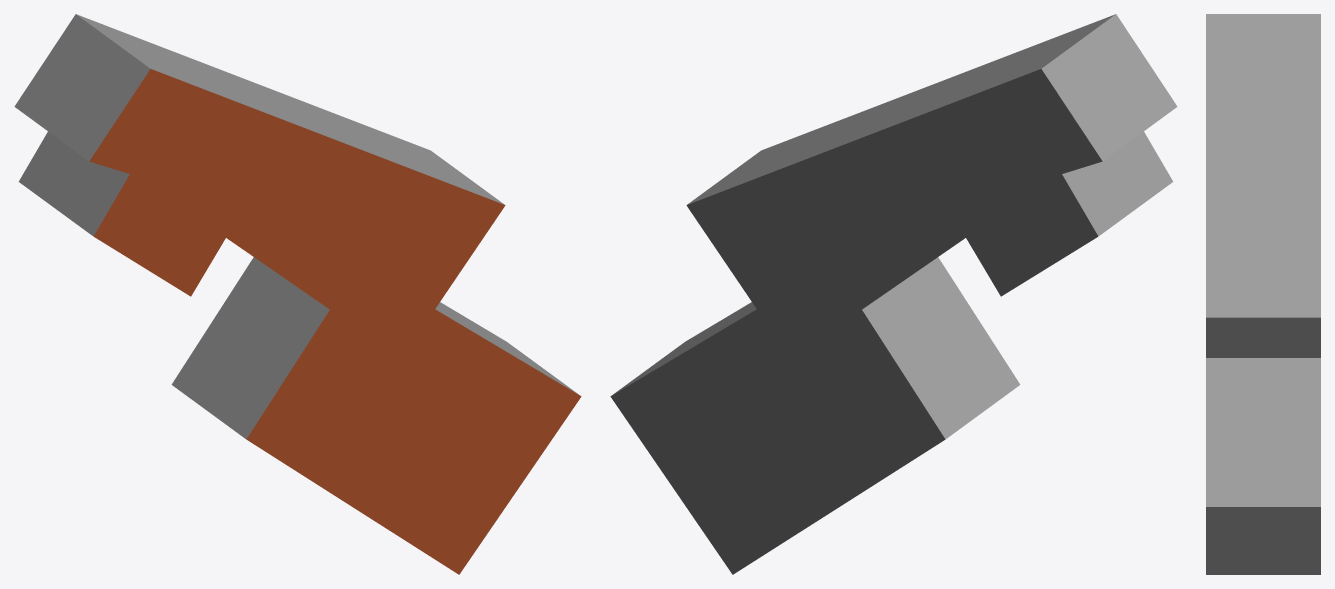
The model's file is construction_1287_assumed_A_Casa_h6m.obj.
3 views of the same model, side by side, from view 1: azimuth 30°, elevation 25°; view 2: azimuth 150°, elevation 25°; view 3: azimuth 270°, elevation 25° (orthographic). The views are drawn at different scales.
Visible parts, largest first — view 1: construction_1287_assumed_A_Casa; view 2: construction_1287_assumed_A_Casa; view 3: construction_1287_assumed_A_Casa.
Part boxes in pixels (left/top/right/bottom): construction_1287_assumed_A_Casa: left=14, top=14, right=581, bottom=574; construction_1287_assumed_A_Casa: left=610, top=14, right=1177, bottom=574; construction_1287_assumed_A_Casa: left=1206, top=14, right=1320, bottom=574.
Size of the model in its own units: 22.78 by 25.71 by 6.
